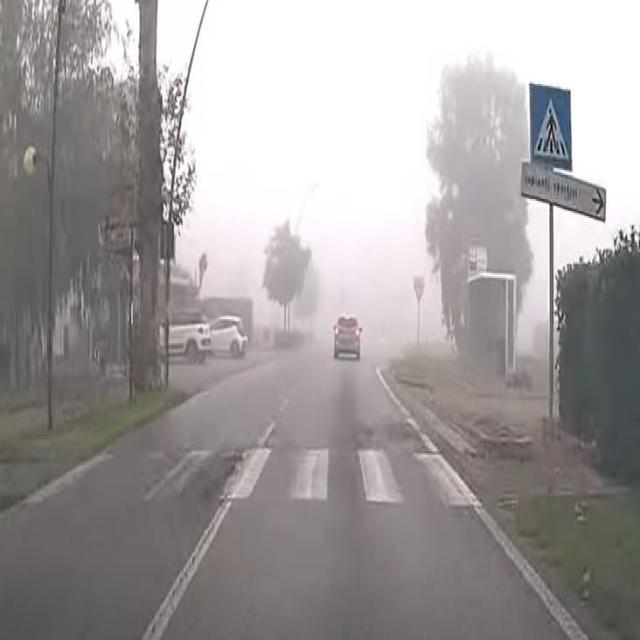Car: (333, 312, 363, 363)
Pedestrian crosswalk: (37, 442, 483, 516), (527, 76, 574, 170)
